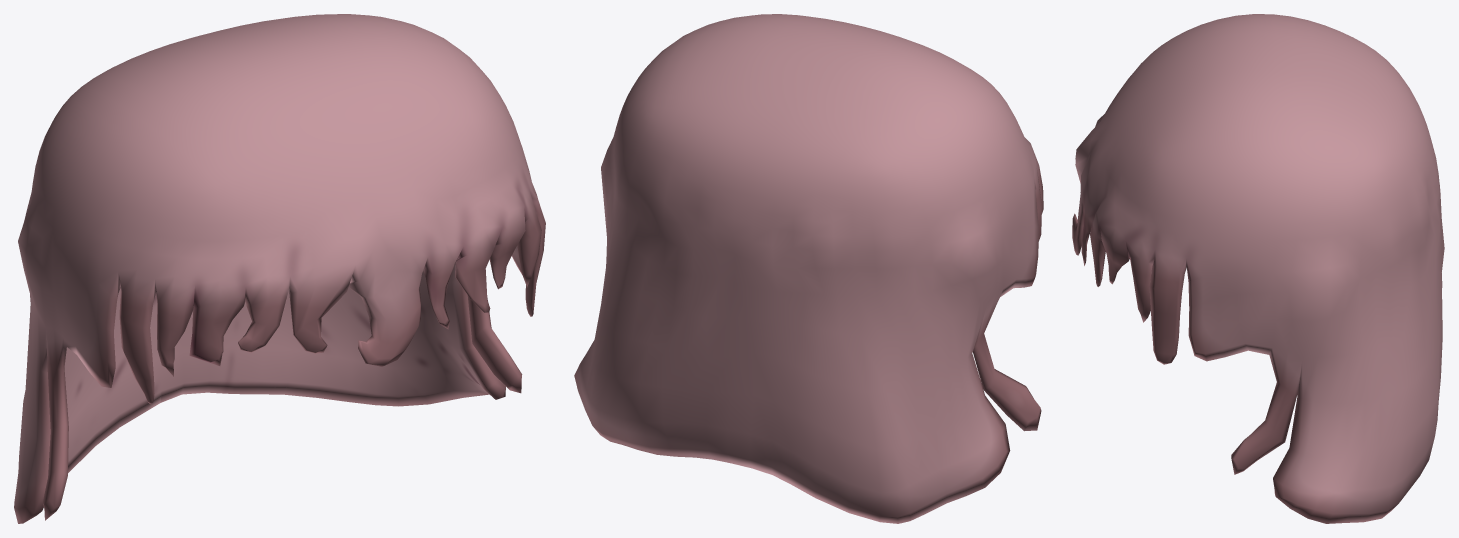
Rendered from OG_Pink.glb.
3 renders of one model, left to right at view 1: azimuth 30°, elevation 25°; view 2: azimuth 150°, elevation 25°; view 3: azimuth 270°, elevation 25°, orthographic. The views are drawn at different scales.
Parts seen in each view (by area): view 1: OG_Pink; view 2: OG_Pink; view 3: OG_Pink.
Part boxes in pixels (x1=…): OG_Pink: x1=14, y1=14, x2=545, y2=523; OG_Pink: x1=574, y1=14, x2=1043, y2=523; OG_Pink: x1=1072, y1=14, x2=1444, y2=523.
Bounding box in the file's own units: 1.07 × 0.9721 × 0.8194.
Materials: 1 (1 with a texture image).
